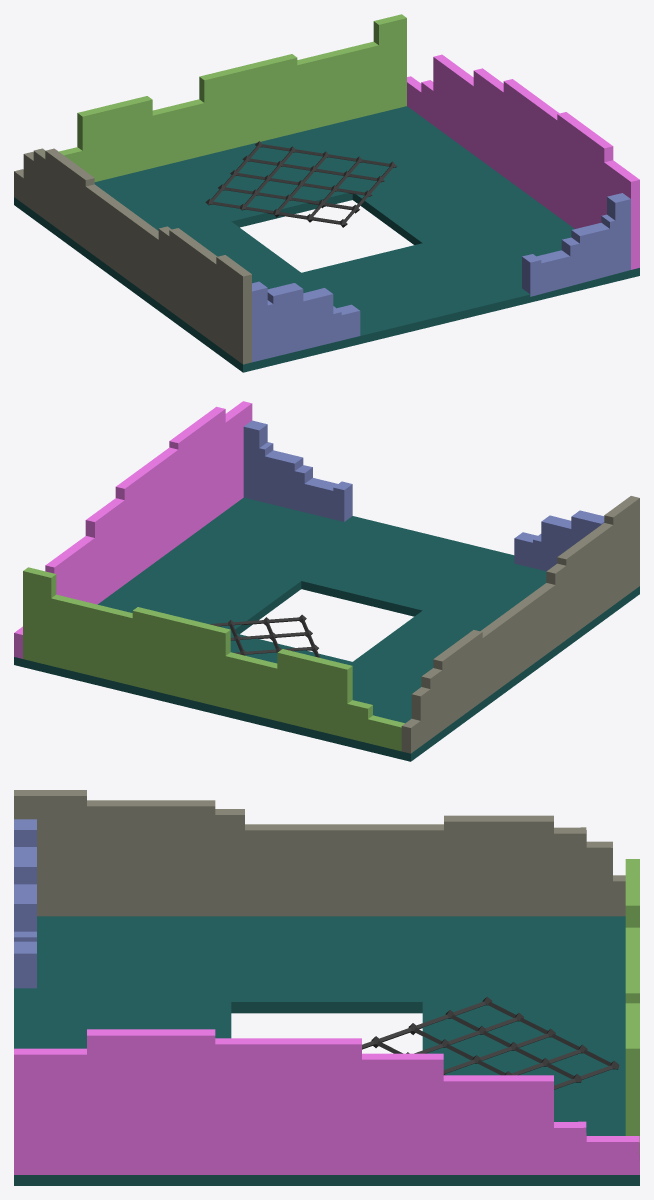
Rendered from Room_2.fbx.
3 renders of one model, top to bottom at view 1: azimuth 30°, elevation 25°; view 2: azimuth 150°, elevation 25°; view 3: azimuth 270°, elevation 25°, orthographic. The views are drawn at different scales.
Visible parts, largest first — view 1: Box007, Line018, Line017, Line016, Line020, Line019, Plane001; view 2: Box007, Line018, Line016, Line017, Line019, Line020, Plane001; view 3: Box007, Line017, Line016, Plane001, Line018, Line020.
Boxes of the visible parts, x1,y1,x2,y2 form: Box007: (14, 106, 639, 372); Line018: (59, 14, 406, 181); Line017: (407, 54, 639, 269); Line016: (14, 148, 251, 364); Line020: (252, 281, 360, 362); Line019: (522, 193, 630, 296); Plane001: (205, 141, 396, 227); Box007: (14, 497, 639, 761); Line018: (23, 567, 404, 751); Line016: (401, 496, 639, 753); Line017: (14, 401, 252, 658); Line019: (243, 420, 352, 521); Line020: (514, 510, 604, 571); Plane001: (209, 614, 319, 657); Box007: (14, 916, 639, 1185); Line017: (14, 1029, 639, 1174); Line016: (14, 790, 625, 916); Plane001: (362, 996, 619, 1089); Line018: (625, 859, 639, 1154); Line020: (14, 819, 36, 988).
Size of the model in its own units: 457 by 457 by 121.
